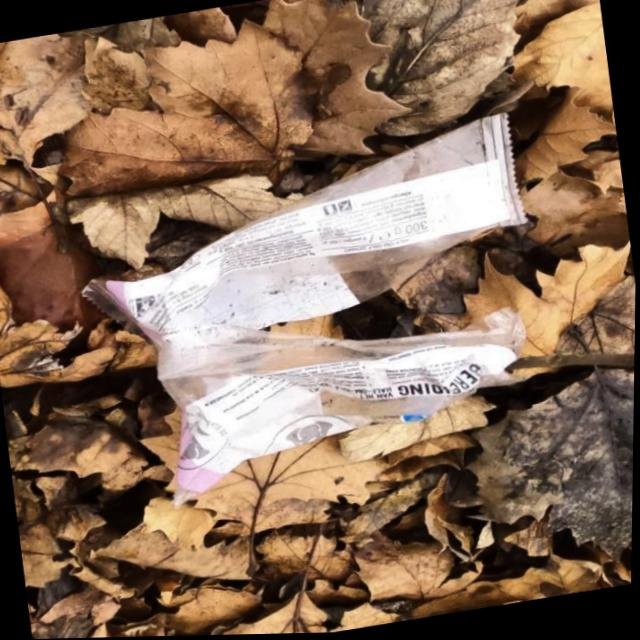Plastic: (60, 110, 564, 522)
